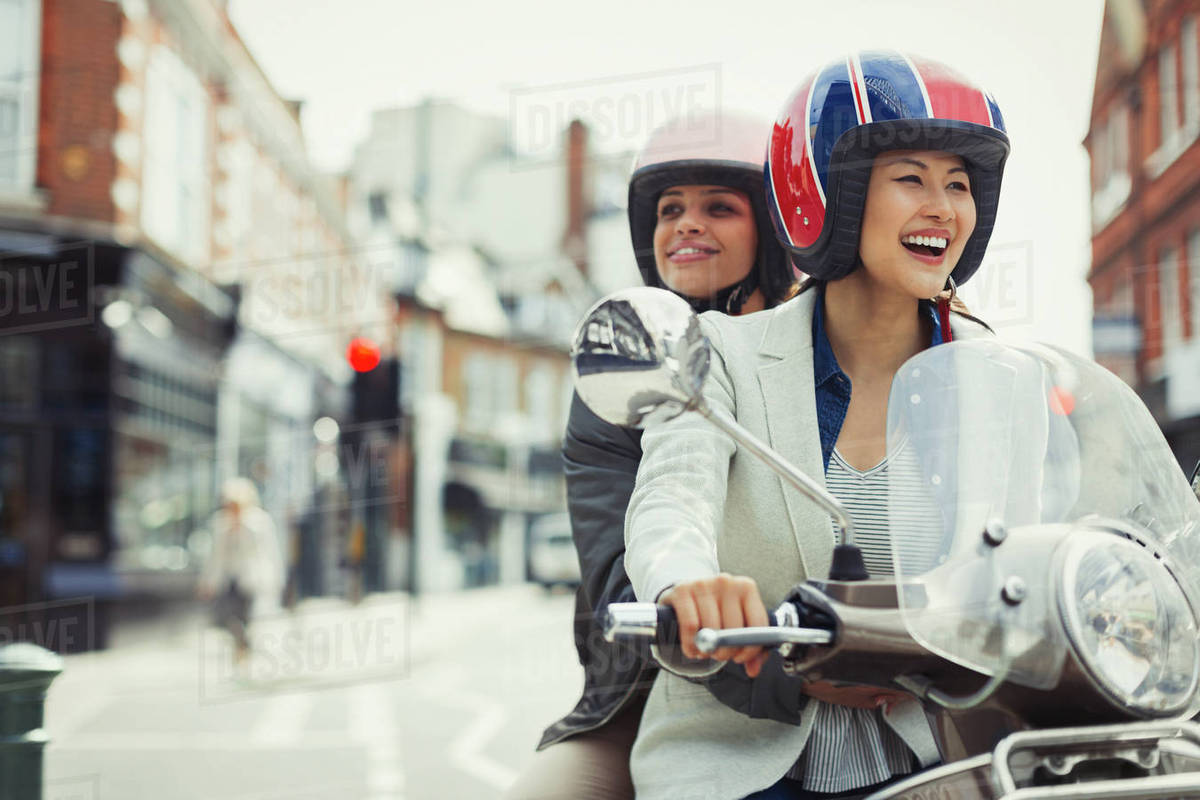with_helmet: (769, 47, 995, 282), (628, 108, 795, 299)
